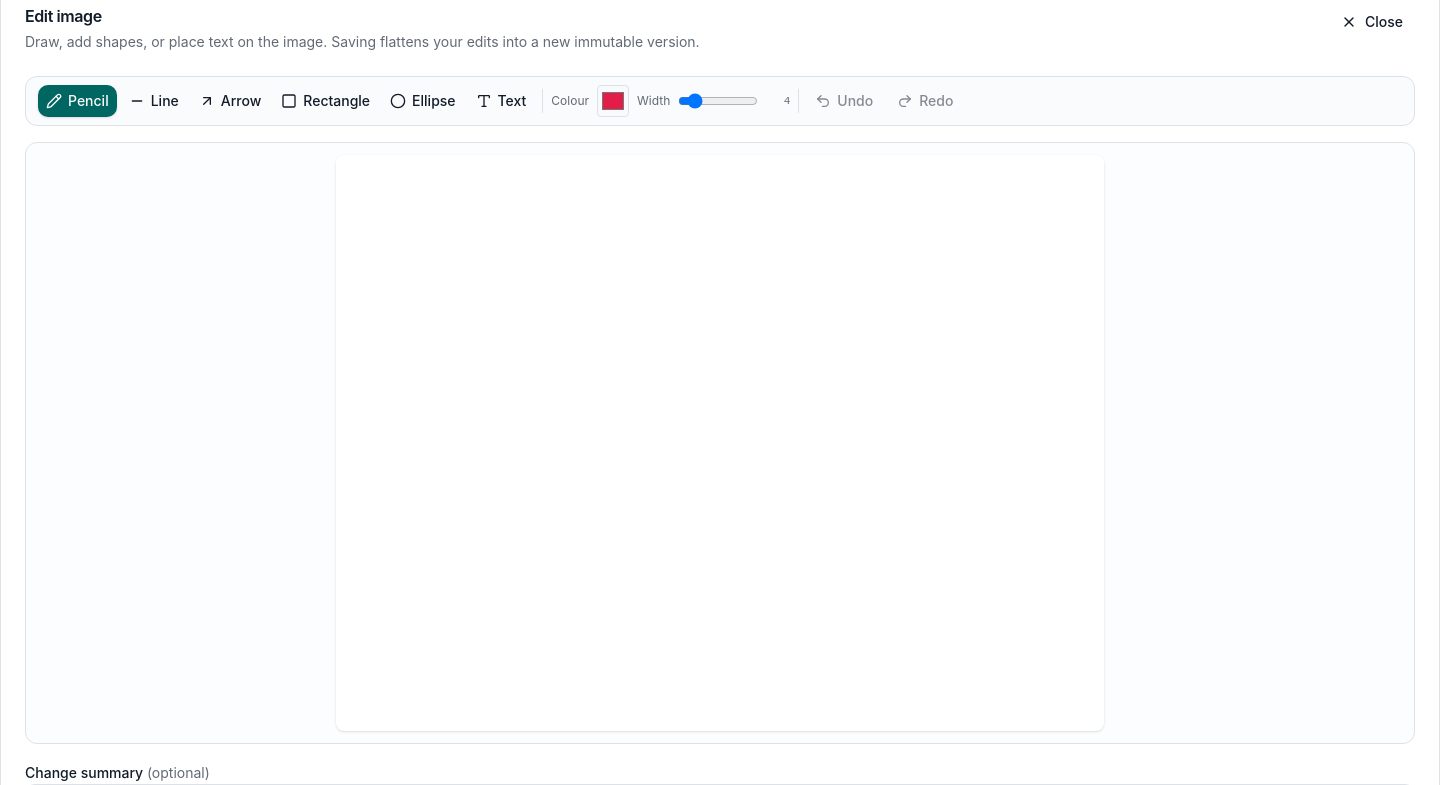
ImageAnnotationEditor › supports undo and redo for annotations
The image size is (1440, 785).
Check: the button "Undo" is disabled, box [807,85,881,117]
Check: the button "Redo" is disabled, box [889,85,961,117]
Press the mouse on the picture named "Editable image: diagram.png": (720, 443) [336,155,1104,731]
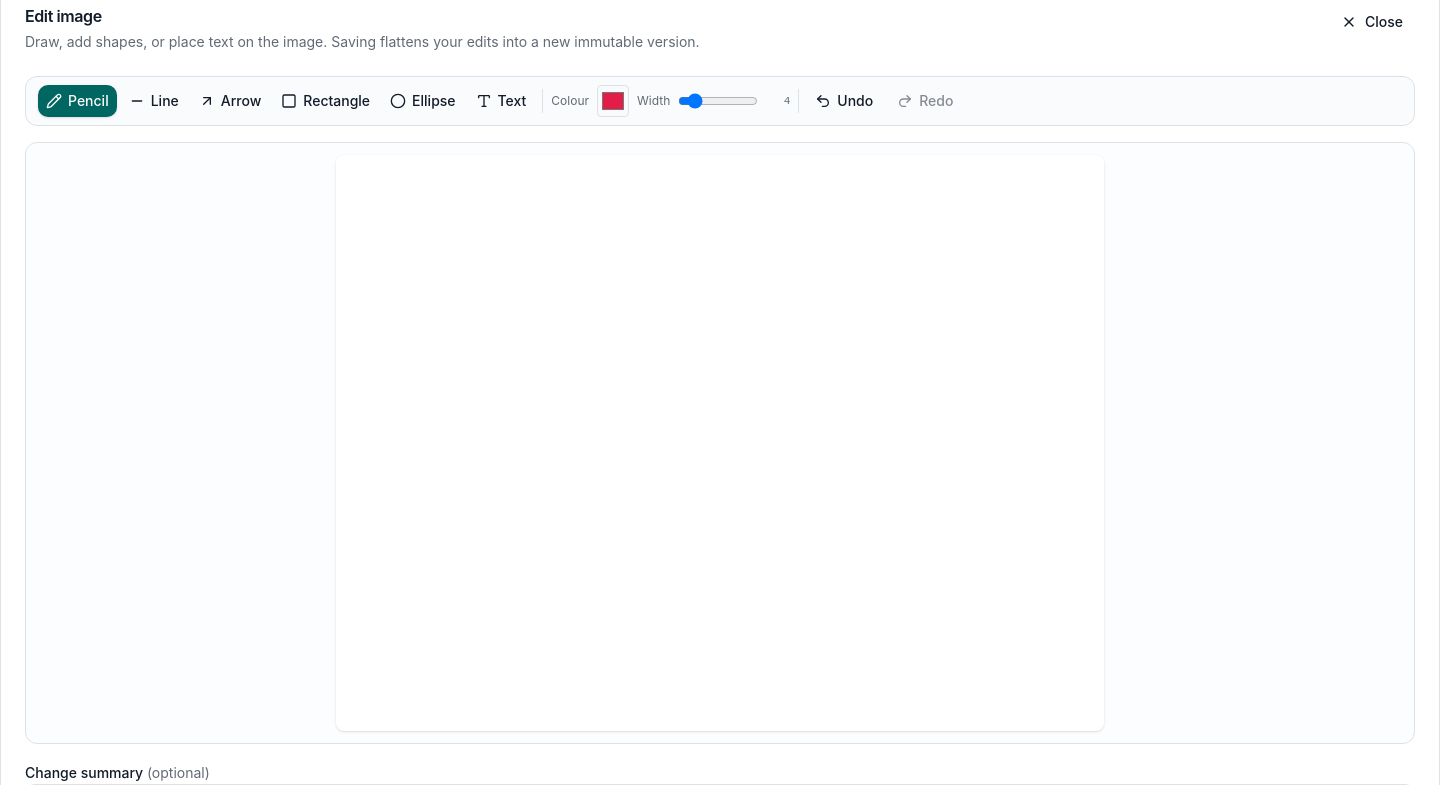
Click the button "Undo": click(844, 101) [807,85,881,117]
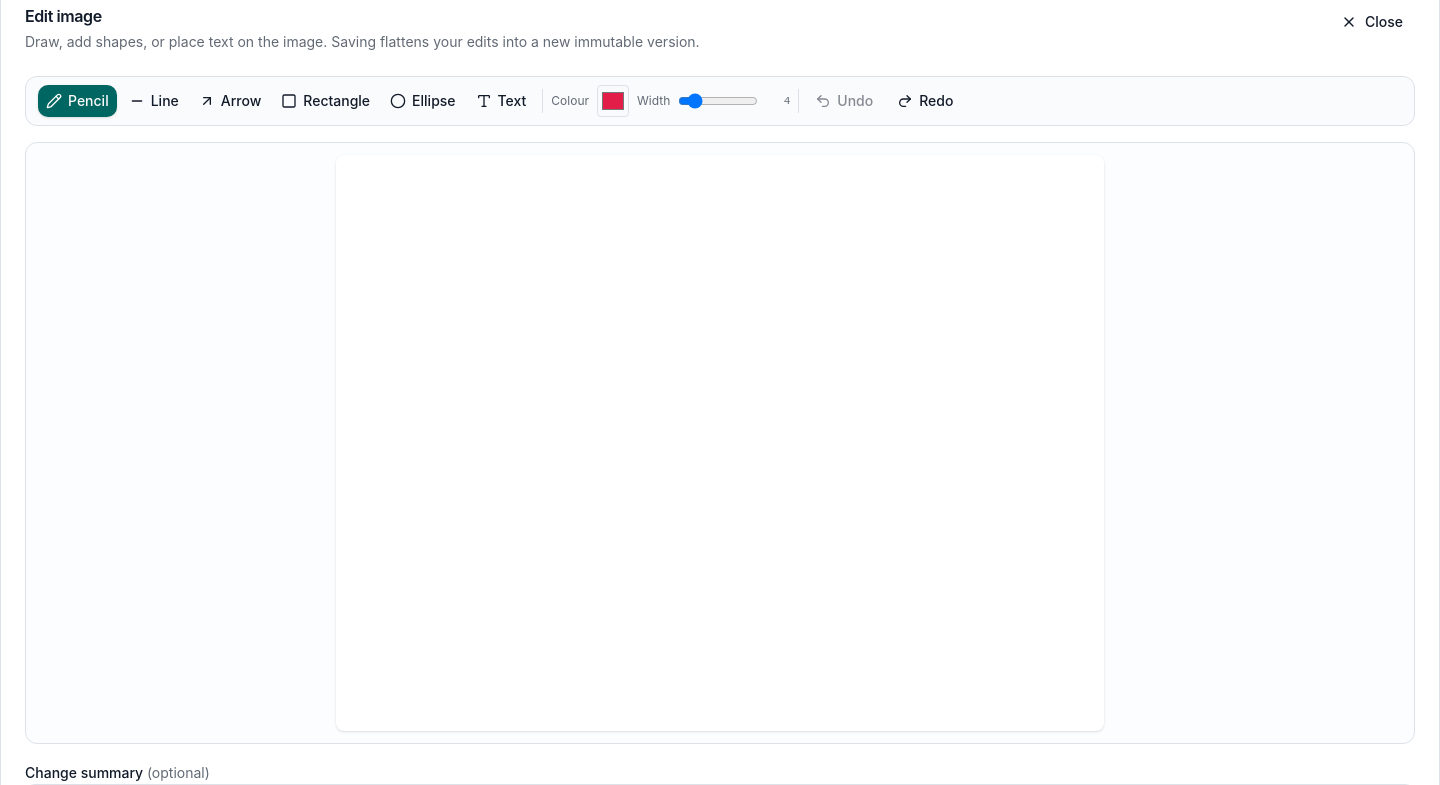
Check: the button "Redo" is enabled
Click the button "Redo": click(925, 101) [889,85,961,117]
(page scrolled)
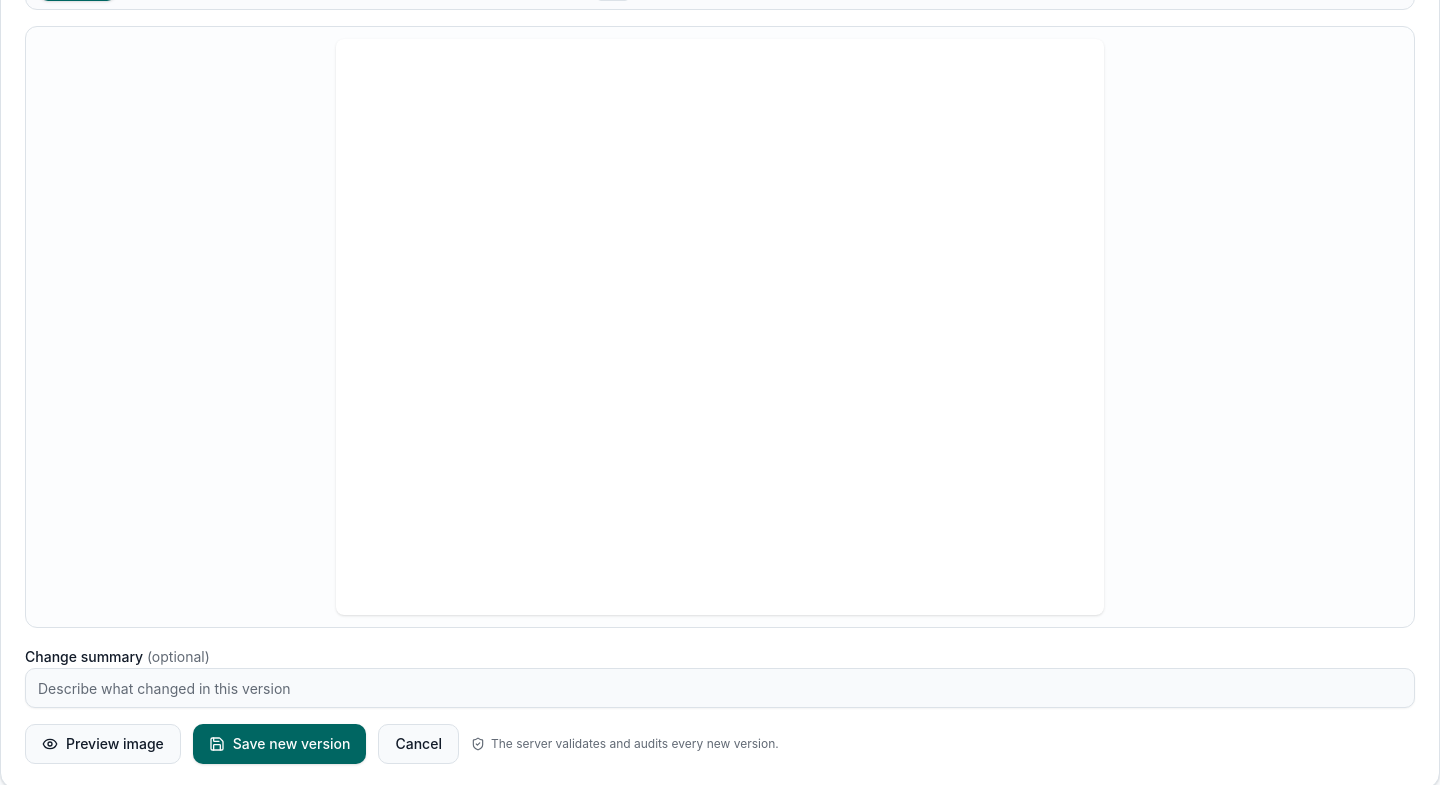
Check: the button "Save new version" is enabled, box [193,724,366,764]
